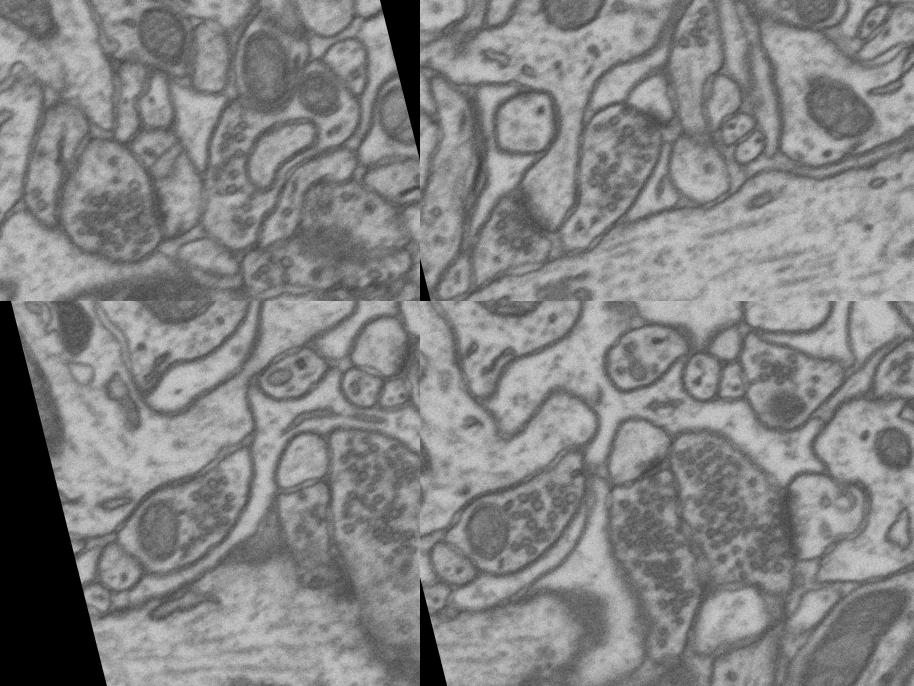mitochondria: (758, 559, 914, 686), (13, 301, 101, 485), (804, 68, 910, 164), (420, 303, 462, 492), (228, 21, 306, 120), (447, 484, 526, 572), (124, 0, 205, 82), (744, 360, 828, 439), (117, 492, 190, 578), (507, 0, 625, 51), (446, 301, 581, 340), (0, 0, 71, 71), (112, 301, 238, 341), (362, 78, 418, 158), (787, 656, 914, 686), (863, 416, 914, 489), (288, 64, 348, 122), (766, 0, 844, 37), (420, 439, 446, 524)
